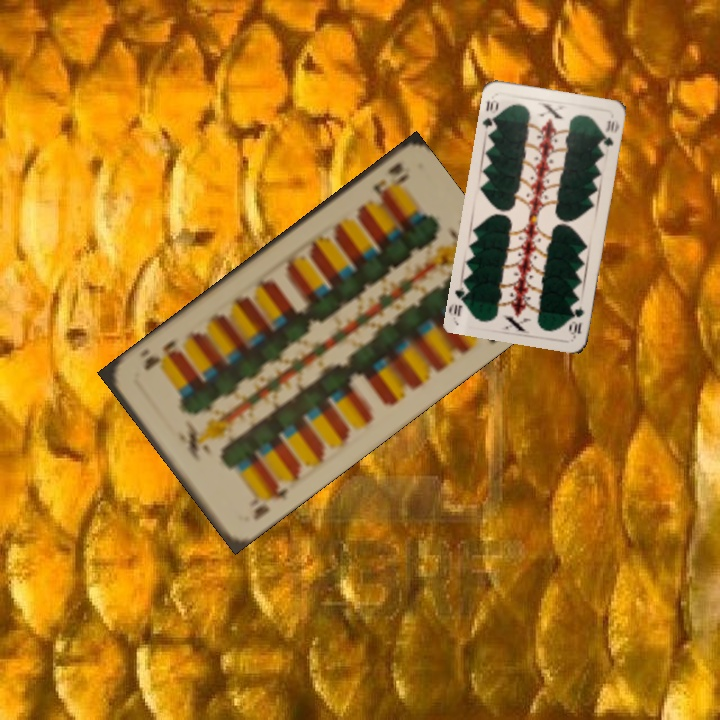E10: (244, 478, 291, 523), (368, 158, 412, 200)
G10: (566, 301, 587, 339), (478, 96, 501, 130)
